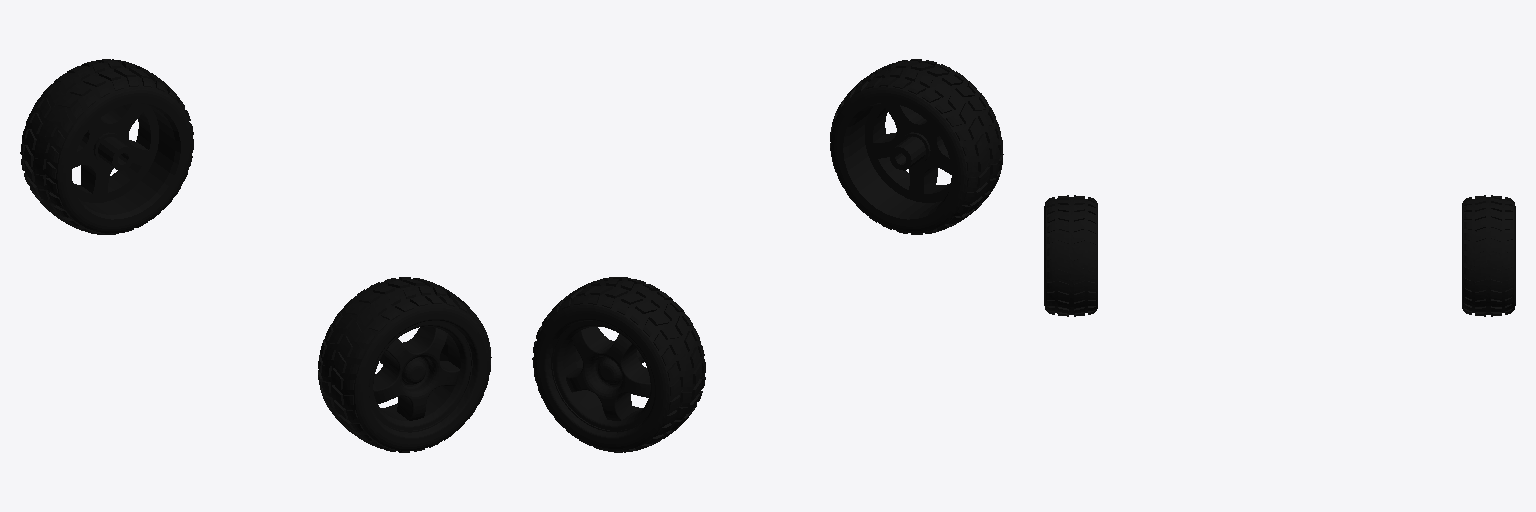
robot.urdf — self_balancing_robot:
<?xml version="1.0" encoding="utf-8"?>
<!-- This URDF was automatically created by SolidWorks to URDF Exporter! Originally created by [author] ([email redacted]) 
     Commit Version: 1.6.0-4-g7f85cfe  Build Version: 1.6.7995.38578
     For more information, please see http://wiki.ros.org/sw_urdf_exporter -->
<robot
  name="self_balancing_robot">
  <link
    name="base_link">
    <inertial>
      <origin
        xyz="1.884E-08 1.1315E-08 0.081069"
        rpy="0 0 0" />
      <mass
        value="1" />
      <inertia
        ixx="0.00055204"
        ixy="-5.6477E-10"
        ixz="2.325E-09"
        iyy="0.00016933"
        iyz="1.2853E-11"
        izz="0.00063329" />
    </inertial>
    <visual>
      <origin
        xyz="0 0 0"
        rpy="0 0 0" />
      <geometry>
        <mesh
          filename="package://self_balancing_robot/meshes/base_link.STL" />
      </geometry>
      <material
        name="">
        <color
          rgba="0.75294 0.75294 0.75294 1" />
      </material>
    </visual>
    <collision>
      <origin
        xyz="0 0 0"
        rpy="0 0 0" />
      <geometry>
        <mesh
          filename="package://self_balancing_robot/meshes/base_link.STL" />
      </geometry>
    </collision>
  </link>
  <link
    name="rightwheel_Link">
    <inertial>
      <origin
        xyz="7.6231E-11 1.6816E-11 0.013884"
        rpy="0 0 0" />
      <mass
        value="0.059279" />
      <inertia
        ixx="2.391E-05"
        ixy="-6.5624E-14"
        ixz="-1.3532E-14"
        iyy="2.391E-05"
        iyz="-1.6947E-14"
        izz="4.0764E-05" />
    </inertial>
    <visual>
      <origin
        xyz="0 0 0"
        rpy="0 0 0" />
      <geometry>
        <mesh
          filename="package://self_balancing_robot/meshes/rightwheel_Link.STL" />
      </geometry>
      <material
        name="">
        <color
          rgba="0.10196 0.10196 0.10196 1" />
      </material>
    </visual>
    <collision>
      <origin
        xyz="0 0 0"
        rpy="0 0 0" />
      <geometry>
        <mesh
          filename="package://self_balancing_robot/meshes/rightwheel_Link.STL" />
      </geometry>
    </collision>
  </link>
  <joint
    name="rightwheel"
    type="continuous">
    <origin
      xyz="0 -0.131 -0.0155"
      rpy="-1.5708 0 0" />
    <parent
      link="base_link" />
    <child
      link="rightwheel_Link" />
    <axis
      xyz="0 0 -1" />
  </joint>
  <link
    name="leftwheel_Link">
    <inertial>
      <origin
        xyz="-2.0107E-11 -7.543E-11 0.013884"
        rpy="0 0 0" />
      <mass
        value="0.059279" />
      <inertia
        ixx="2.391E-05"
        ixy="5.1771E-11"
        ixz="-8.8299E-15"
        iyy="2.391E-05"
        iyz="1.9808E-14"
        izz="4.0764E-05" />
    </inertial>
    <visual>
      <origin
        xyz="0 0 0"
        rpy="0 0 0" />
      <geometry>
        <mesh
          filename="package://self_balancing_robot/meshes/leftwheel_Link.STL" />
      </geometry>
      <material
        name="">
        <color
          rgba="0.10196 0.10196 0.10196 1" />
      </material>
    </visual>
    <collision>
      <origin
        xyz="0 0 0"
        rpy="0 0 0" />
      <geometry>
        <mesh
          filename="package://self_balancing_robot/meshes/leftwheel_Link.STL" />
      </geometry>
    </collision>
  </link>
  <joint
    name="leftwheel"
    type="continuous">
    <origin
      xyz="0 0.131 -0.0155"
      rpy="1.5708 0 0" />
    <parent
      link="base_link" />
    <child
      link="leftwheel_Link" />
    <axis
      xyz="0 0 1" />
  </joint>
  <gazebo>
  <plugin name="differential_drive_controller" filename="libgazebo_ros_diff_drive.so">

    <!-- Plugin update rate in Hz -->
    <updateRate>400</updateRate>

    <!-- Name of left joint, defaults to `left_joint` -->
    <leftJoint>leftwheel</leftJoint>

    <!-- Name of right joint, defaults to `right_joint` -->
    <rightJoint>rightwheel</rightJoint>

    <!-- The distance from the center of one wheel to the other, in meters, defaults to 0.34 m -->
    <wheelSeparation>0.2580</wheelSeparation>

    <!-- Diameter of the wheels, in meters, defaults to 0.15 m -->
    <wheelDiameter>0.03410</wheelDiameter>

    <!-- Wheel acceleration, in rad/s^2, defaults to 0.0 rad/s^2 -->
    <wheelAcceleration>50</wheelAcceleration>

    <!-- Maximum torque which the wheels can produce, in Nm, defaults to 5 Nm -->
    <wheelTorque>20</wheelTorque>

    <!-- Topic to receive geometry_msgs/Twist message commands, defaults to `cmd_vel` -->
    <commandTopic>cmd_vel</commandTopic>

    <!-- Topic to publish nav_msgs/Odometry messages, defaults to `odom` -->
    <odometryTopic>odom</odometryTopic>

    <!-- Odometry frame, defaults to `odom` -->
    <odometryFrame>odom</odometryFrame>

    <!-- Robot frame to calculate odometry from, defaults to `base_footprint` -->
    <robotBaseFrame>base_link</robotBaseFrame>

    <!-- Odometry source, 0 for ENCODER, 1 for WORLD, defaults to WORLD -->
    <odometrySource>1</odometrySource>

    <!-- Set to true to publish transforms for the wheel links, defaults to false -->
    <publishWheelTF>true</publishWheelTF>

    <!-- Set to true to publish transforms for the odometry, defaults to true -->
    <publishOdom>true</publishOdom>

    <!-- Set to true to publish sensor_msgs/JointState on /joint_states for the wheel joints, defaults to false -->
    <publishWheelJointState>true</publishWheelJointState>

    <!-- Set to true to swap right and left wheels, defaults to true -->
    <legacyMode>false</legacyMode>
  </plugin>
</gazebo>
<gazebo>
    <plugin name="imu_plugin" filename="libgazebo_ros_imu.so">
      <alwaysOn>true</alwaysOn>
      <bodyName>base_link</bodyName>
      <topicName>imu/data</topicName>
      <gaussianNoise>0.0002</gaussianNoise>
      <gravity>true</gravity>
      <updateRate>400</updateRate>
    </plugin>
  </gazebo>
</robot>

--- What the picture shows (computed from the rendered views, not written in the file) ---
The picture shows the robot from 3 angles, left to right: view 1: azimuth 30°, elevation 25°; view 2: azimuth 150°, elevation 25°; view 3: azimuth 270°, elevation 25°; orthographic projection.
Robot: self_balancing_robot — 3 links, 2 joints (2 continuous); root link base_link; default pose: every joint at zero.
Links seen in each view (by area): view 1: rightwheel_Link, leftwheel_Link; view 2: leftwheel_Link, rightwheel_Link; view 3: rightwheel_Link, leftwheel_Link.
Link boxes in pixels (<box>): rightwheel_Link: <box>318,277,491,452</box>; leftwheel_Link: <box>20,59,193,234</box>; leftwheel_Link: <box>532,277,705,452</box>; rightwheel_Link: <box>830,59,1003,234</box>; rightwheel_Link: <box>1044,195,1097,316</box>; leftwheel_Link: <box>1462,195,1515,316</box>.
Bounding box of the posed robot: 0.0675 × 0.262 × 0.0675 m (x, y, z).
2 mesh visuals loaded from 3 distinct referenced files (2 binary STL); not drawn: 1 (reference not matched to a file when rendering).